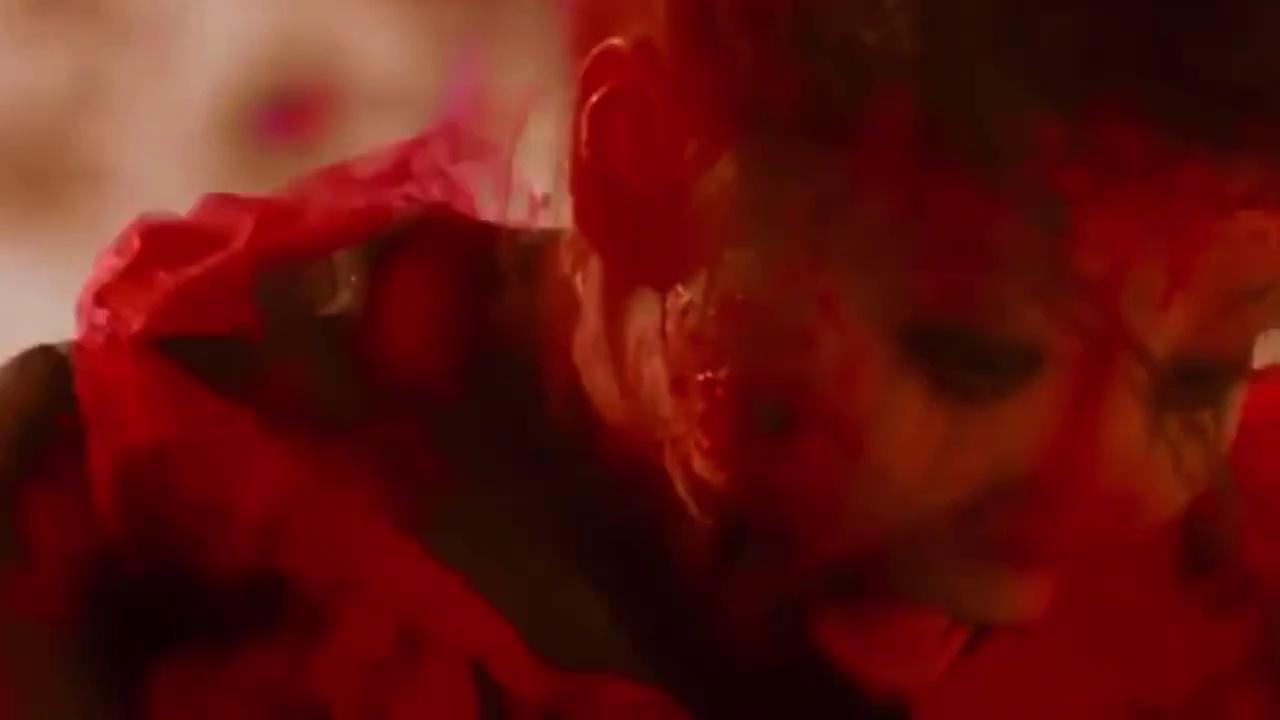Fire: (0, 0, 1280, 718), (478, 0, 587, 238)
